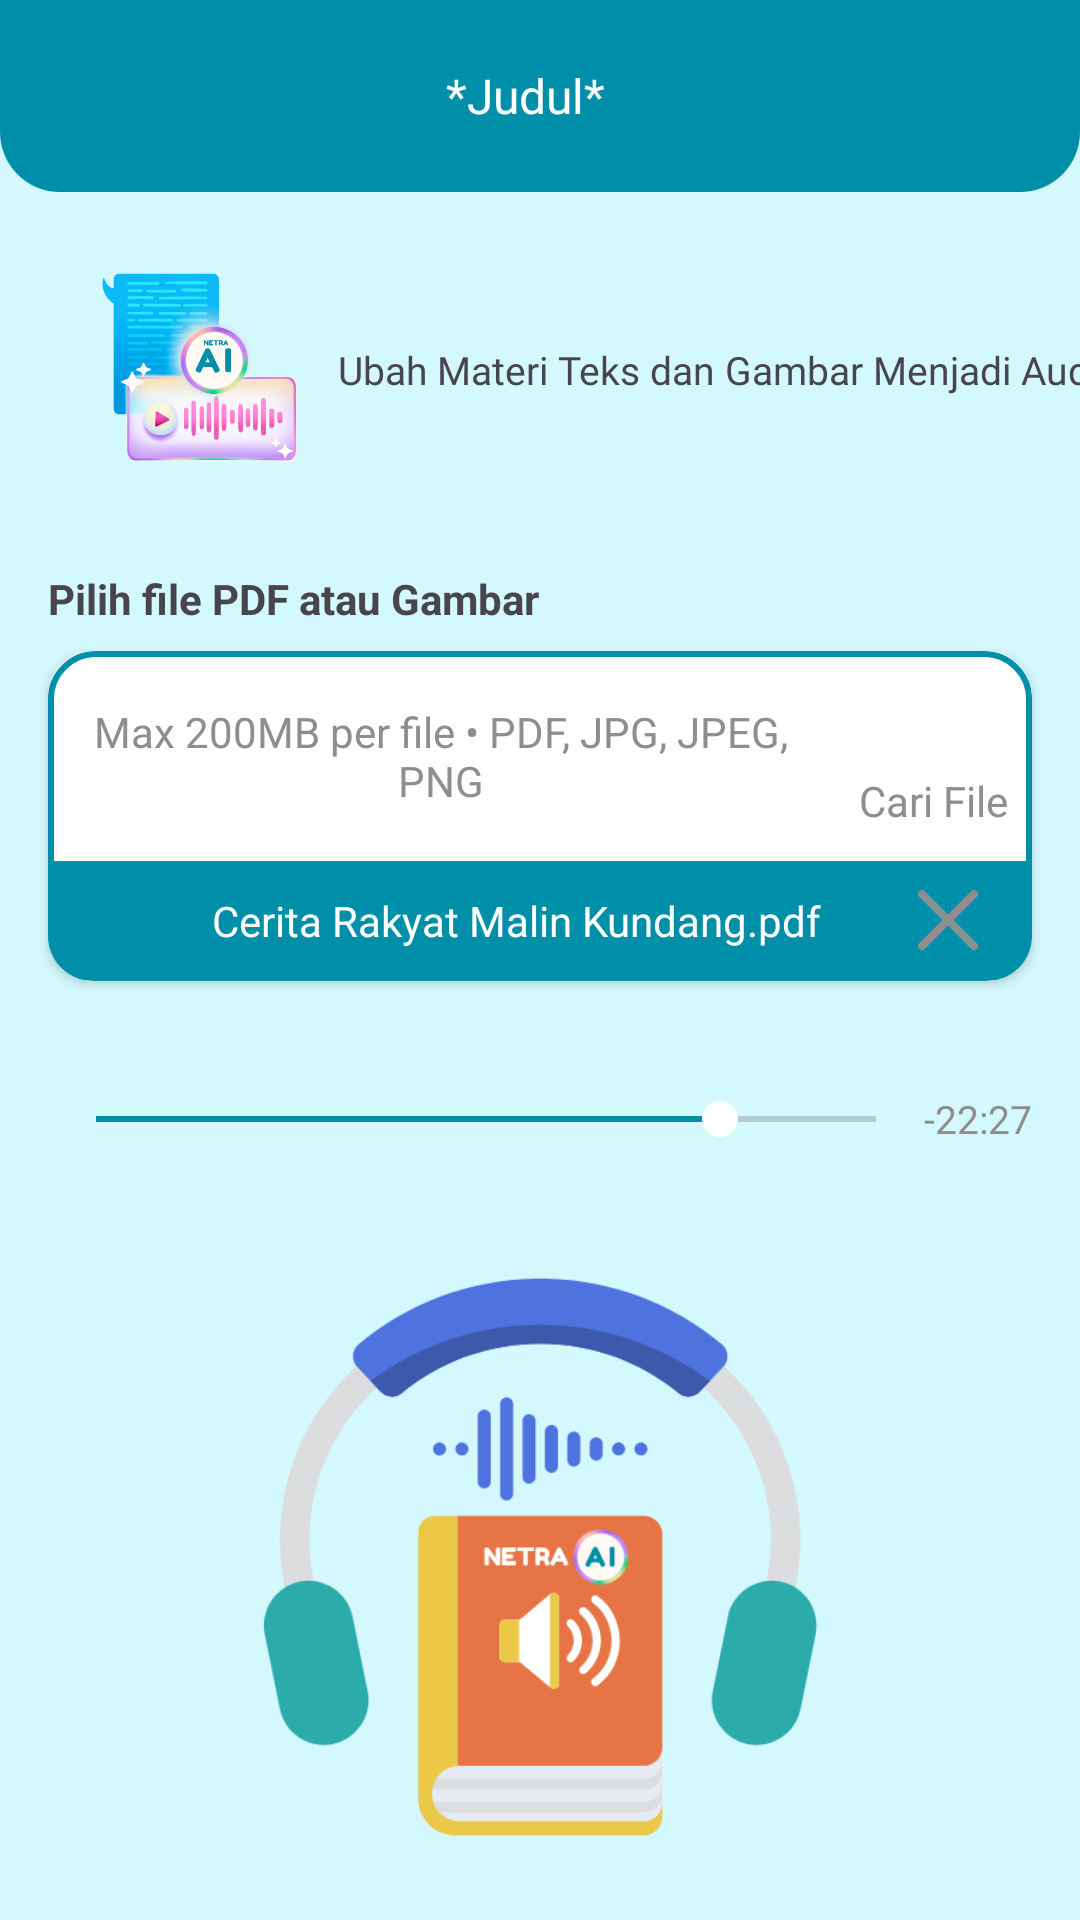

Icon click points for this 1080px x 1920px phone screenshot, format (x=x, y=y):
close: (x=948, y=920)
